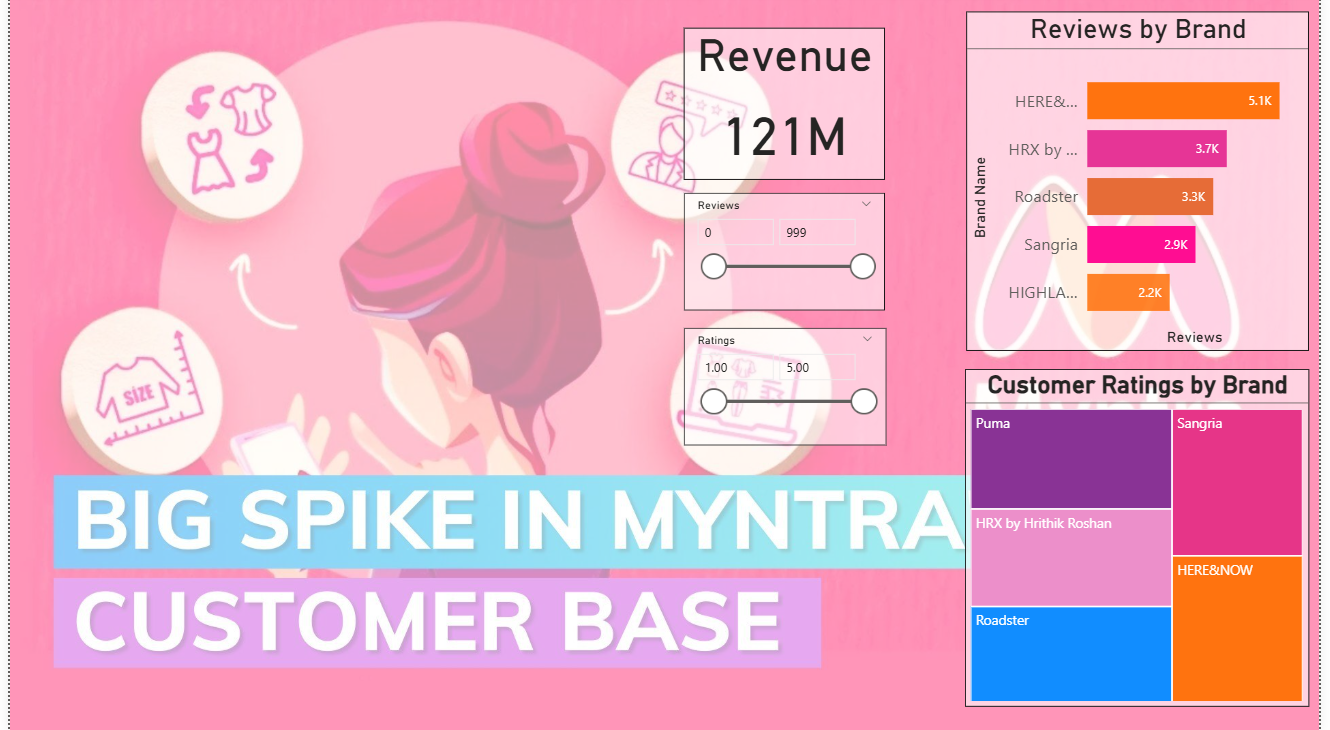

This screenshot's page, from the dashboard's own definition file:
{"tool":"powerbi","page":{"name":"Customer Engagement","canvas":[1280,720],"ordinal":2},"visuals":[{"type":"card","title":"Revenue","fields":{"Values":["Myntra Fasion Clothing.Total Revenue"]},"box":[659.1,33,196.9,149.2],"z":0},{"type":"barChart","title":"Reviews by Brand ","fields":{"Category":["Myntra Fasion Clothing.Brand Name"],"Y":["Myntra Fasion Clothing.reviews count"]},"box":[935,16.9,335.4,331.8],"z":1000},{"type":"treemap","title":"Customer Ratings by Brand","fields":{"Group":["Myntra Fasion Clothing.Brand Name"],"Values":["Myntra Fasion Clothing.Ratings"]},"box":[933.8,366.8,336.6,330.6],"z":2000},{"type":"slicer","fields":{"Values":["Myntra Fasion Clothing.Reviews"]},"box":[659.1,194.4,196.9,114.9],"z":3000},{"type":"slicer","fields":{"Values":["Myntra Fasion Clothing.Ratings"]},"box":[659.1,326.5,198.1,114.9],"z":4000}]}

Visuals, with their boxes in screenshot pixels (x1, y1, x2, y2), scaled from the page's 1280x720 canvas onto the 1330x730 screenshot:
"Revenue" card: 685,33,889,185
"Reviews by Brand " barChart: 972,17,1320,354
"Customer Ratings by Brand" treemap: 970,372,1320,707
slicer - Myntra Fasion Clothing.Reviews: 685,197,889,314
slicer - Myntra Fasion Clothing.Ratings: 685,331,891,448
